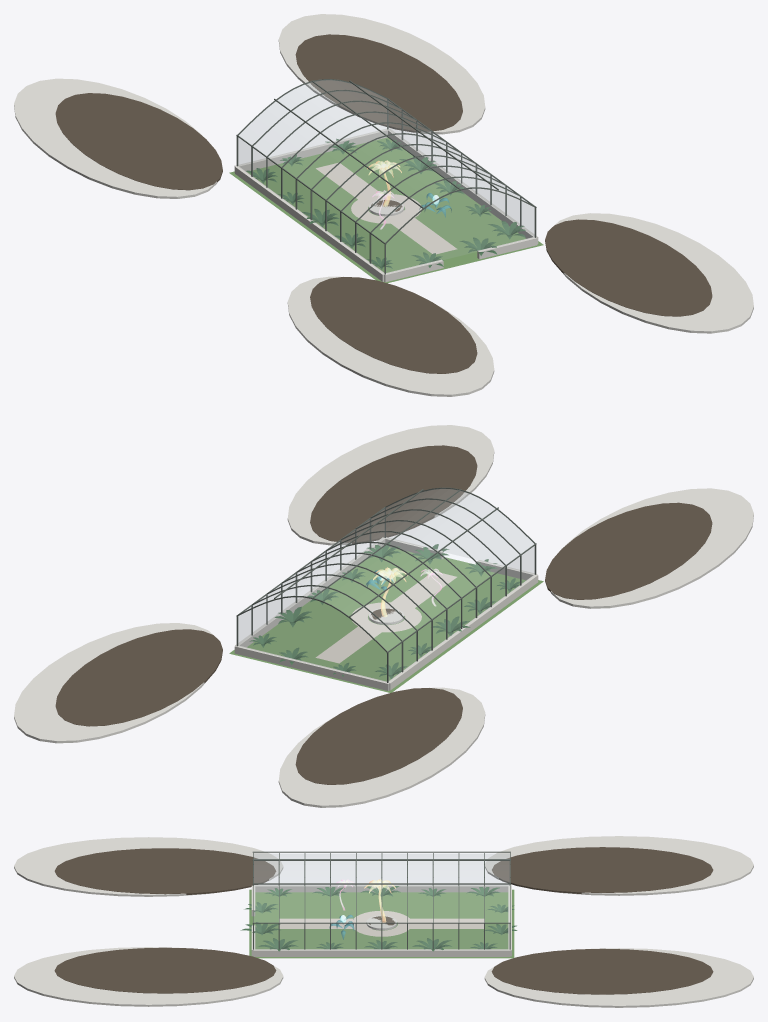
File: tropicario.glb
3 renders of one model, top to bottom at view 1: azimuth 30°, elevation 25°; view 2: azimuth 150°, elevation 25°; view 3: azimuth 270°, elevation 25°, orthographic. The views are drawn at different scales.
Parts seen in each view (by area): view 1: Invernadero_Cristal, Tropicario_Grass, Bancal_Sureste_Tierra, Bancal_Noroeste_Tierra, Bancal_Suroeste_Tierra, Bancal_Noreste_Tierra, Invernadero_Frontones, Invernadero_EstructuraMetal, Bancal_Suroeste_Borde, Bancal_Noroeste_Borde, Bancal_Sureste_Borde, Bancal_Noreste_Borde (+4 smaller); view 2: Invernadero_Cristal, Tropicario_Grass, Bancal_Noreste_Tierra, Bancal_Suroeste_Tierra, Bancal_Noroeste_Tierra, Bancal_Sureste_Tierra, Invernadero_Frontones, Invernadero_EstructuraMetal, Bancal_Suroeste_Borde, Bancal_Noroeste_Borde, Bancal_Noreste_Borde, Bancal_Sureste_Borde (+4 smaller); view 3: Invernadero_Cristal, Tropicario_Grass, Bancal_Noroeste_Tierra, Bancal_Suroeste_Tierra, Bancal_Noreste_Tierra, Bancal_Sureste_Tierra, Bancal_Noreste_Borde, Bancal_Sureste_Borde, Bancal_Noroeste_Borde, Bancal_Suroeste_Borde, Invernadero_EstructuraMetal, Tropicario_Pathways (+3 smaller).
Boxes of the visible parts, x1,y1,x2,y2 form: Invernadero_Cristal: (238, 80, 526, 272); Tropicario_Grass: (229, 137, 543, 283); Bancal_Sureste_Tierra: (545, 219, 712, 316); Bancal_Noroeste_Tierra: (55, 93, 222, 190); Bancal_Suroeste_Tierra: (310, 277, 477, 373); Bancal_Noreste_Tierra: (295, 34, 462, 132); Invernadero_Frontones: (386, 189, 534, 273); Invernadero_EstructuraMetal: (236, 79, 536, 274); Bancal_Suroeste_Borde: (287, 276, 494, 396); Bancal_Noroeste_Borde: (14, 78, 216, 198); Bancal_Sureste_Borde: (553, 213, 753, 333); Bancal_Noreste_Borde: (278, 14, 485, 134); Invernadero_Cristal: (245, 489, 534, 680); Tropicario_Grass: (229, 547, 543, 692); Bancal_Noreste_Tierra: (55, 629, 222, 726); Bancal_Suroeste_Tierra: (545, 502, 712, 599); Bancal_Noroeste_Tierra: (295, 688, 462, 784); Bancal_Sureste_Tierra: (310, 445, 477, 543); Invernadero_Frontones: (238, 598, 386, 681); Invernadero_EstructuraMetal: (236, 487, 536, 682); Bancal_Suroeste_Borde: (550, 488, 753, 608); Bancal_Noroeste_Borde: (278, 687, 485, 807); Bancal_Noreste_Borde: (14, 623, 215, 743); Bancal_Sureste_Borde: (287, 425, 494, 545); Invernadero_Cristal: (254, 854, 509, 948); Tropicario_Grass: (249, 889, 514, 958); Bancal_Noroeste_Tierra: (492, 847, 713, 893); Bancal_Suroeste_Tierra: (54, 848, 275, 894); Bancal_Noreste_Tierra: (491, 948, 713, 994); Bancal_Sureste_Tierra: (54, 947, 276, 993); Bancal_Noreste_Borde: (484, 948, 753, 1007); Bancal_Sureste_Borde: (14, 947, 283, 1006); Bancal_Noroeste_Borde: (485, 836, 753, 895); Bancal_Suroeste_Borde: (14, 837, 283, 896); Invernadero_EstructuraMetal: (252, 851, 510, 949); Tropicario_Pathways: (279, 911, 484, 936).
Size of the model in its own units: 47 by 8.26 by 86.5.
